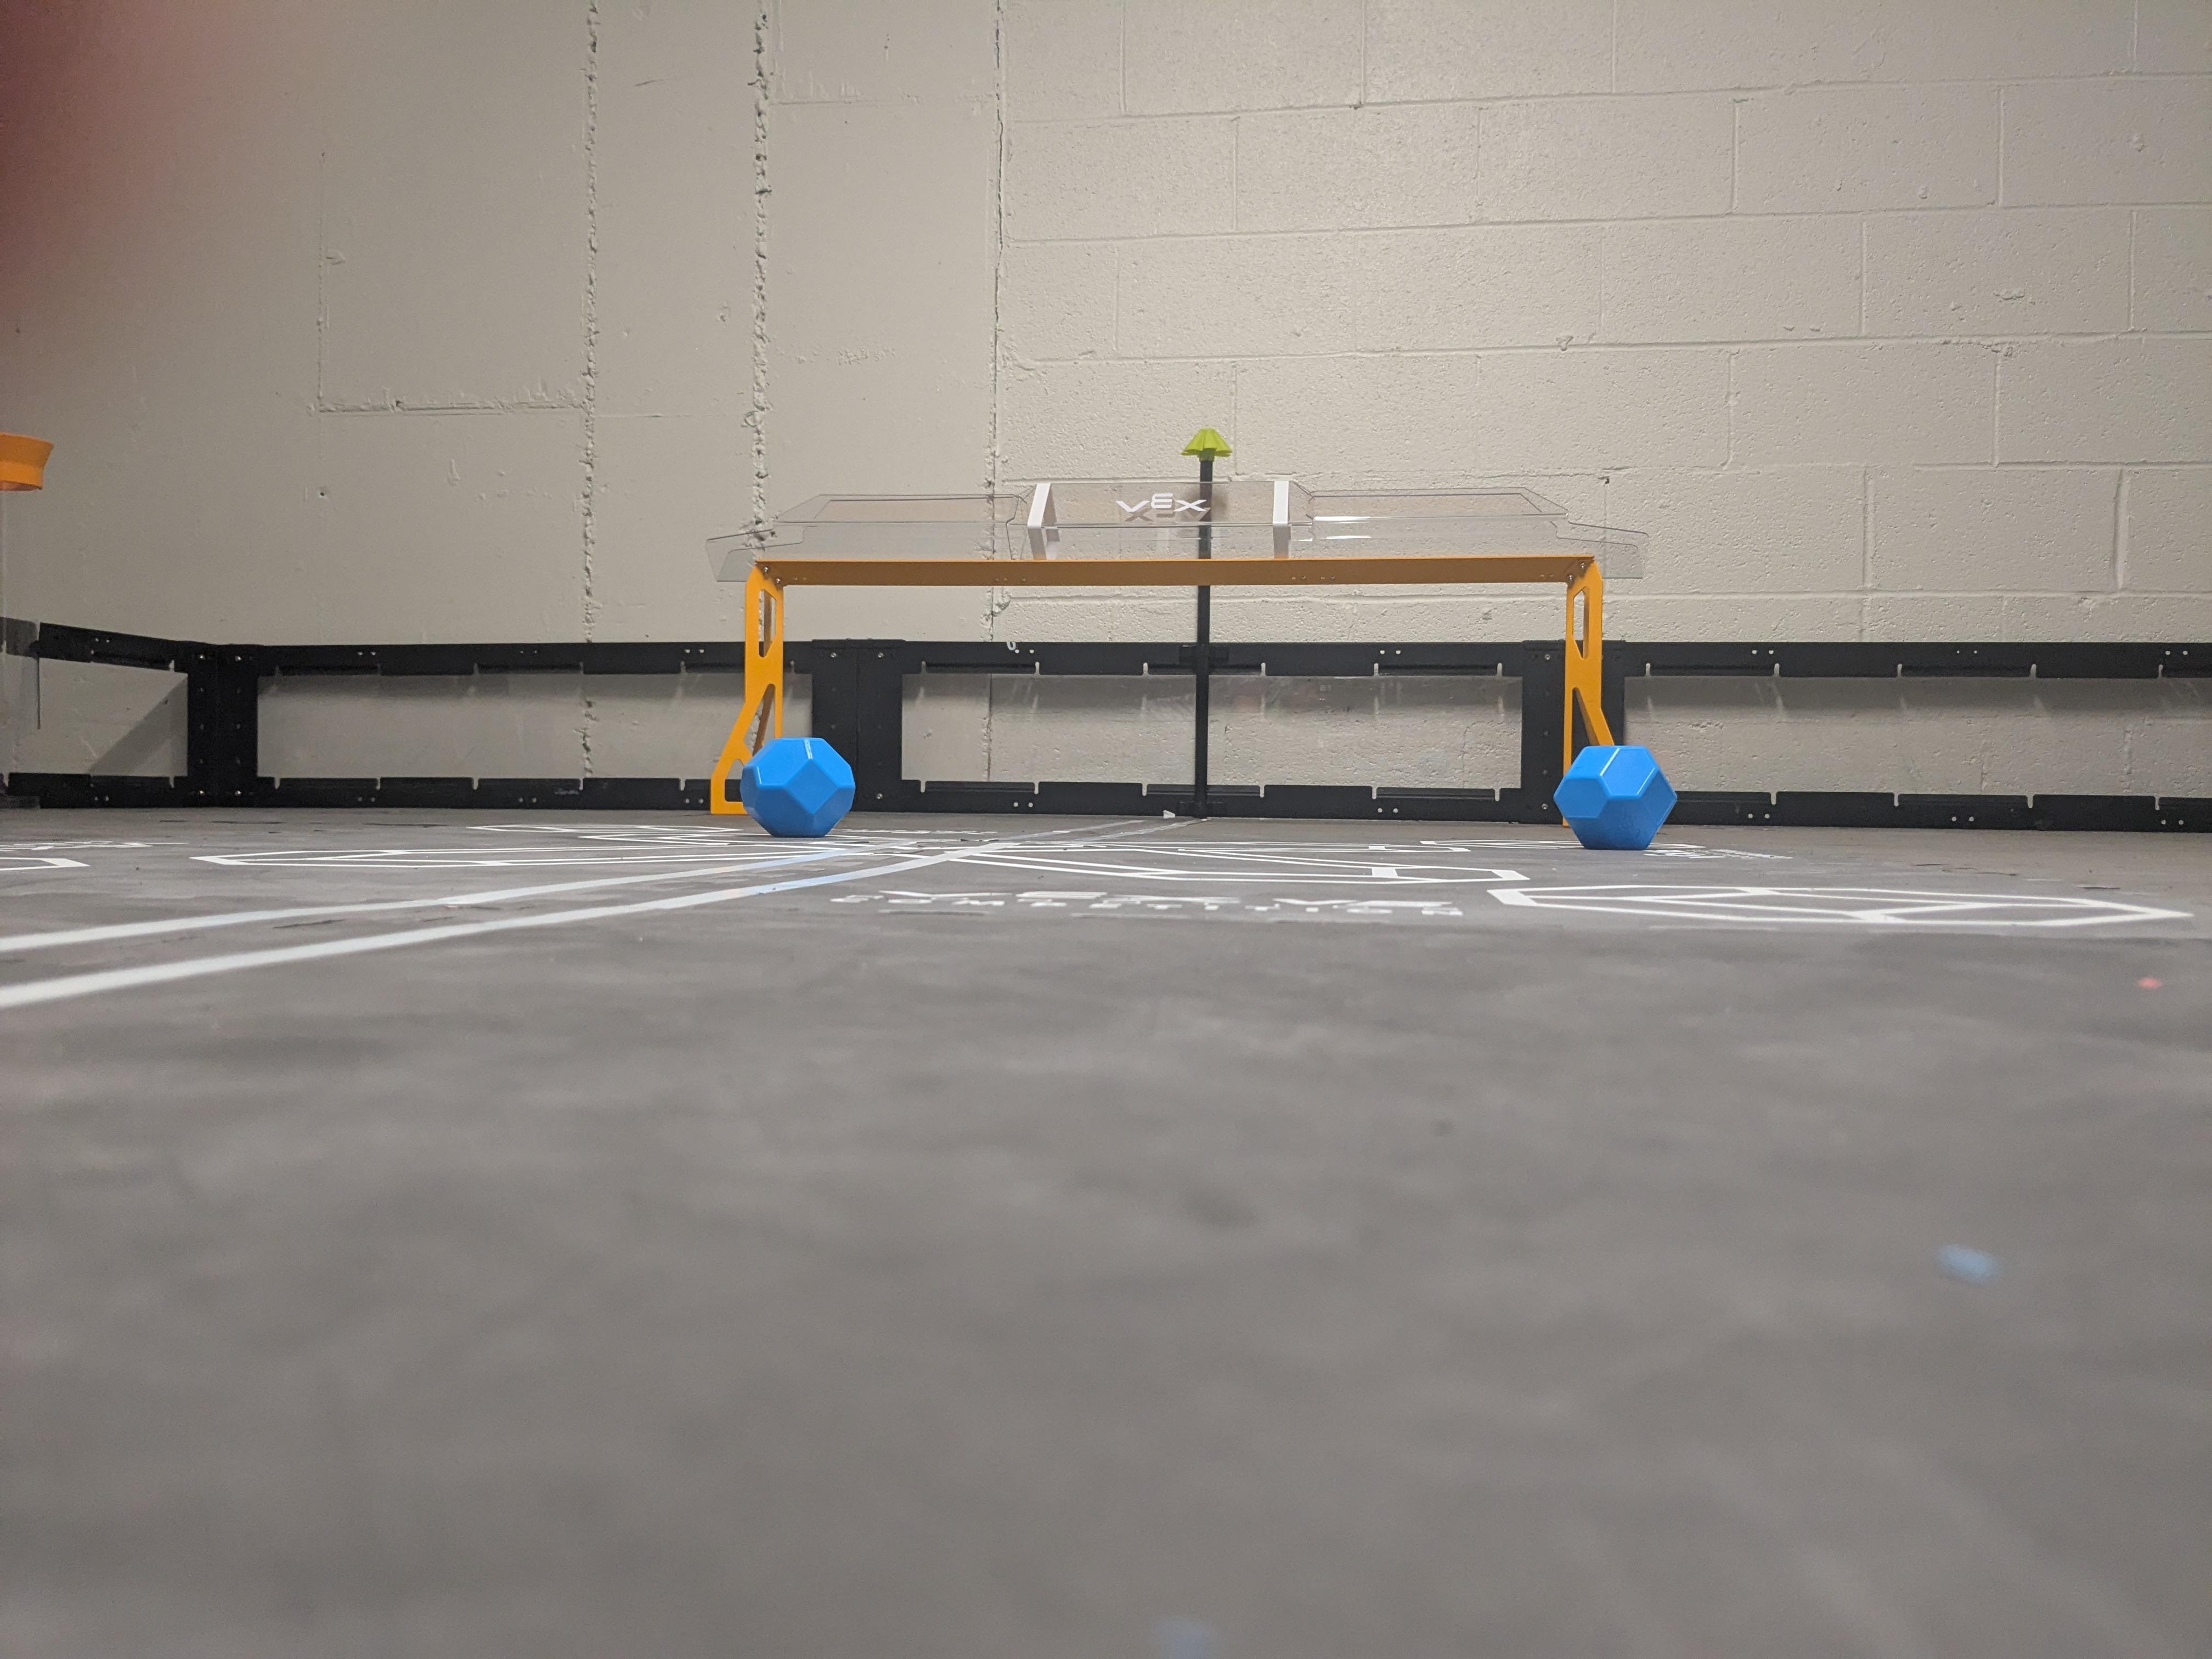Vex-Pieces-BLUE: (1559, 746, 1672, 847), (742, 739, 853, 836)
